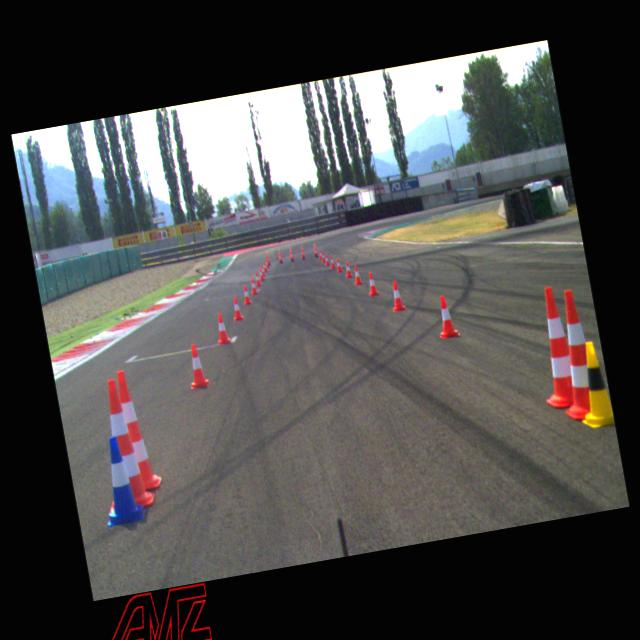blue_cone: (92, 434, 146, 528)
large_orange_cone: (88, 375, 156, 512), (544, 288, 600, 422), (527, 286, 579, 410), (114, 366, 162, 491), (287, 246, 295, 262), (299, 244, 306, 259), (277, 248, 283, 264), (312, 243, 318, 257), (264, 251, 270, 265)
orange_cone: (182, 342, 210, 389), (432, 293, 459, 339), (387, 279, 407, 313), (212, 312, 232, 344), (229, 296, 244, 322), (364, 272, 380, 296), (240, 284, 252, 306), (352, 265, 363, 286), (343, 261, 353, 278), (248, 278, 258, 294), (334, 258, 342, 272), (328, 255, 336, 268), (254, 272, 261, 286), (323, 254, 330, 266), (258, 268, 264, 280), (264, 258, 270, 268), (262, 262, 268, 272), (260, 264, 265, 276), (320, 252, 325, 262), (318, 250, 322, 260)
yellow_cone: (568, 340, 615, 430)
